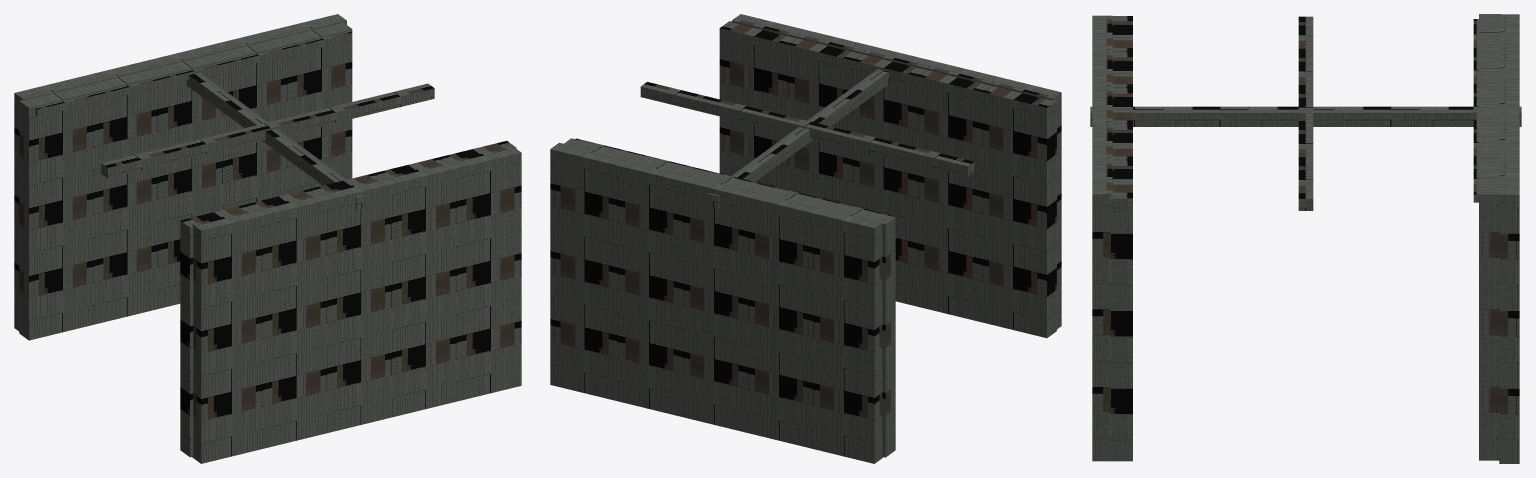
File: dungeon_room_passage_vault.glb
3 renders of one model, left to right at view 1: azimuth 30°, elevation 25°; view 2: azimuth 150°, elevation 25°; view 3: azimuth 270°, elevation 25°, orthographic. The views are drawn at different scales.
Visible parts, largest first — view 1: dungeon_room_passage_vault; view 2: dungeon_room_passage_vault; view 3: dungeon_room_passage_vault.
Part boxes in pixels (box(x1,y1,x2,y2)): dungeon_room_passage_vault: box(14, 14, 521, 463); dungeon_room_passage_vault: box(550, 14, 1061, 463); dungeon_room_passage_vault: box(1090, 14, 1521, 463).
Bounding box in the file's own units: 5.05 × 3.47 × 5.05.
Materials: 1 (1 with a texture image).
